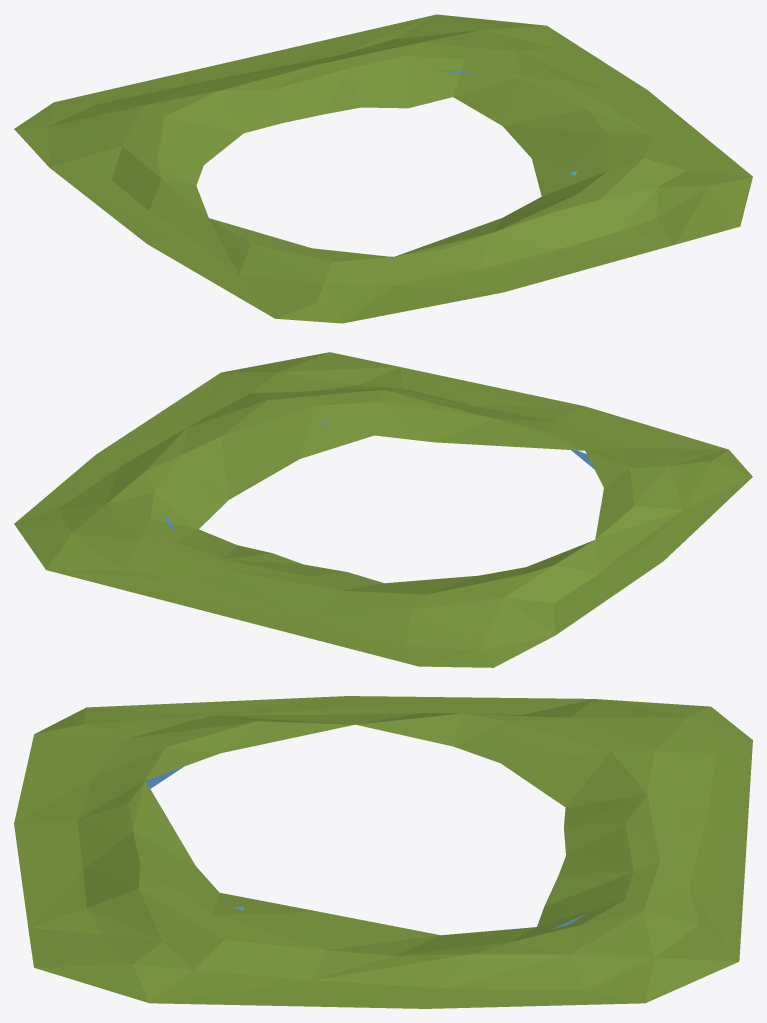
File: Mesh_Landscape_Pond_02.FBX
3 views of the same model, one above another, from view 1: azimuth 30°, elevation 25°; view 2: azimuth 150°, elevation 25°; view 3: azimuth 270°, elevation 25° (orthographic). The views are drawn at different scales.
Visible parts, largest first — view 1: Mesh_Landscape_Pond_01; view 2: Mesh_Landscape_Pond_01; view 3: Mesh_Landscape_Pond_01.
Part boxes in pixels (x1=…): Mesh_Landscape_Pond_01: x1=14, y1=14, x2=752, y2=323; Mesh_Landscape_Pond_01: x1=14, y1=352, x2=752, y2=667; Mesh_Landscape_Pond_01: x1=14, y1=696, x2=752, y2=1008.
Bounding box in the file's own units: 595 × 27.84 × 594.
